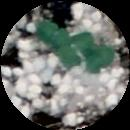Basil: (57, 32, 97, 62), (82, 47, 116, 71), (39, 20, 67, 45)
